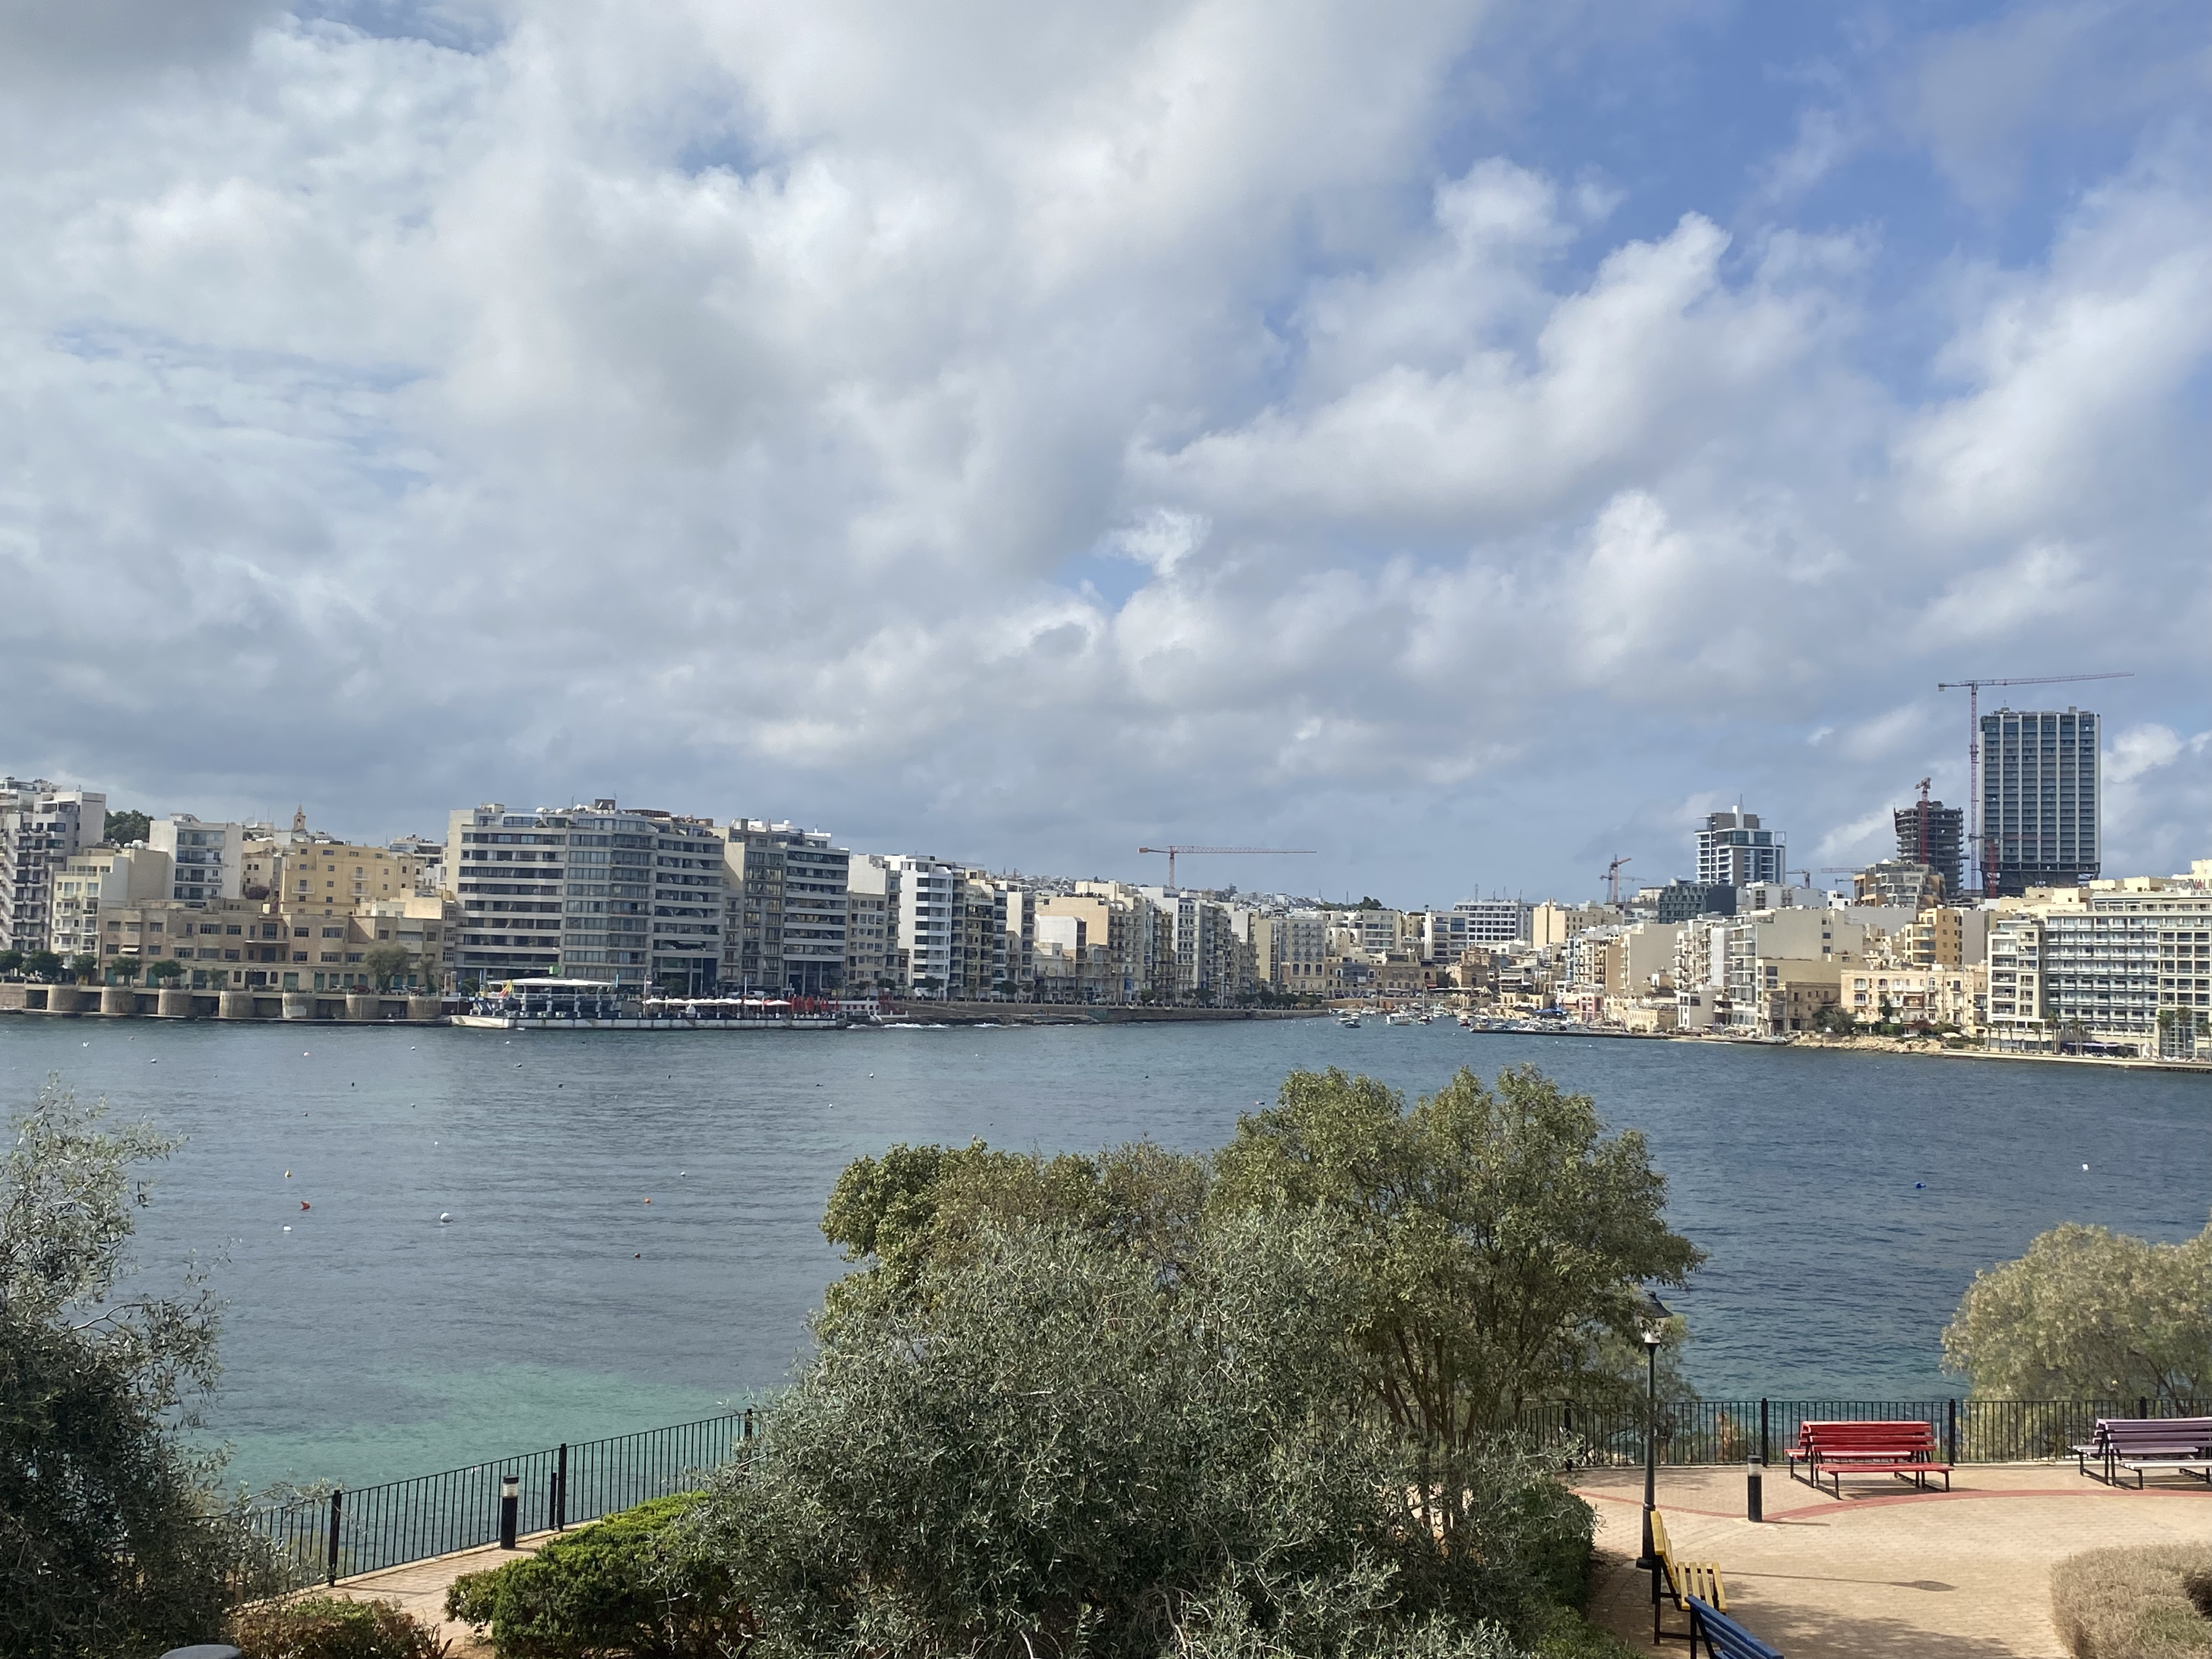crane: (1900, 633, 2155, 709), (1122, 816, 1325, 877)
